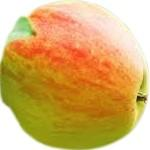fruit: (1, 0, 150, 150)
